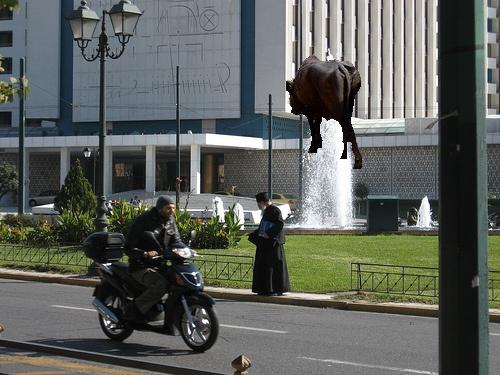tampered: (287, 55, 362, 169)
